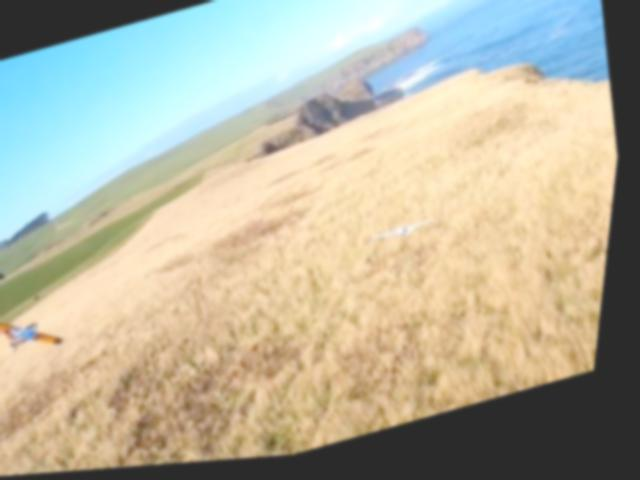uav: (0, 301, 75, 368), (377, 217, 444, 255)
